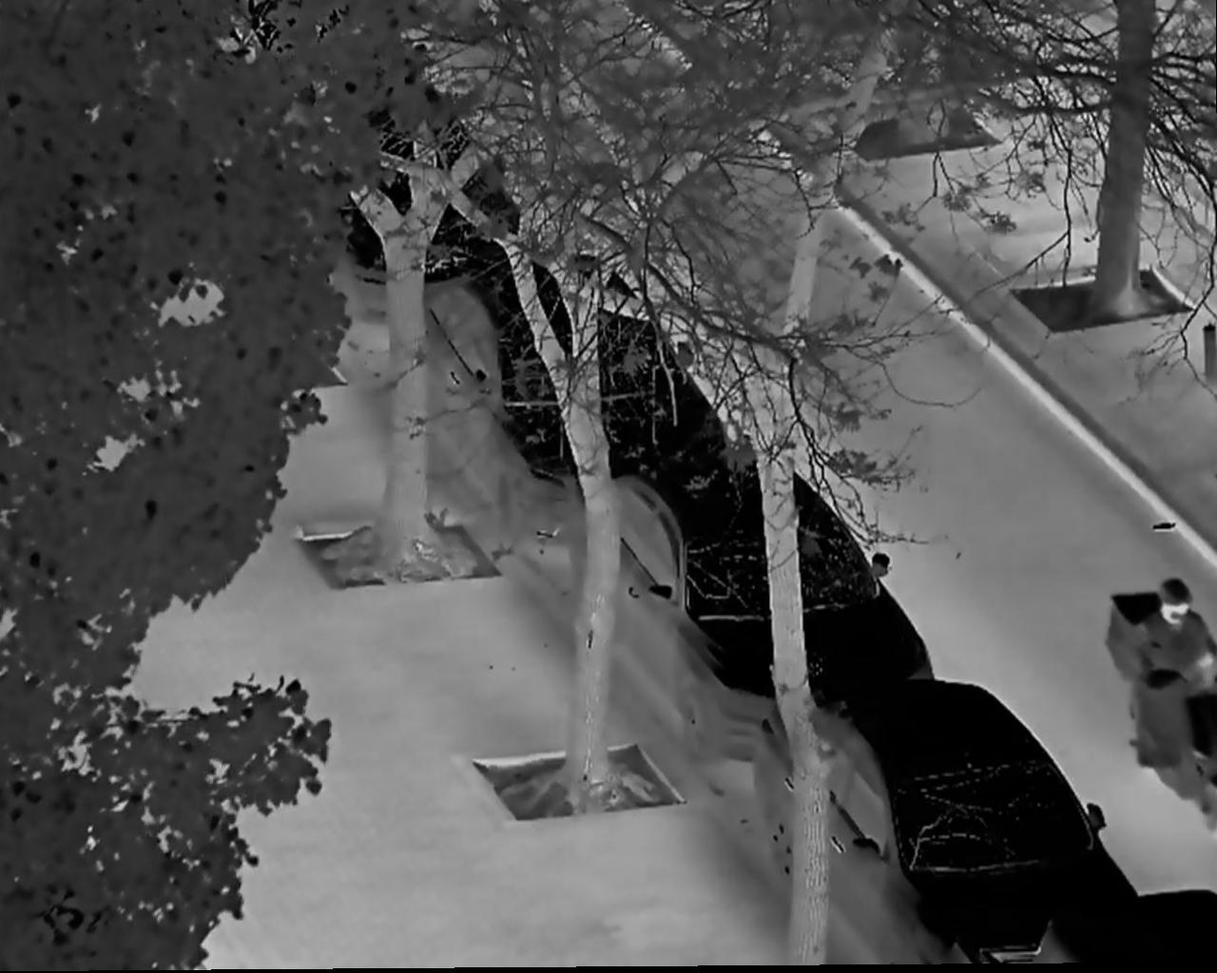person: (1131, 581, 1217, 755)
